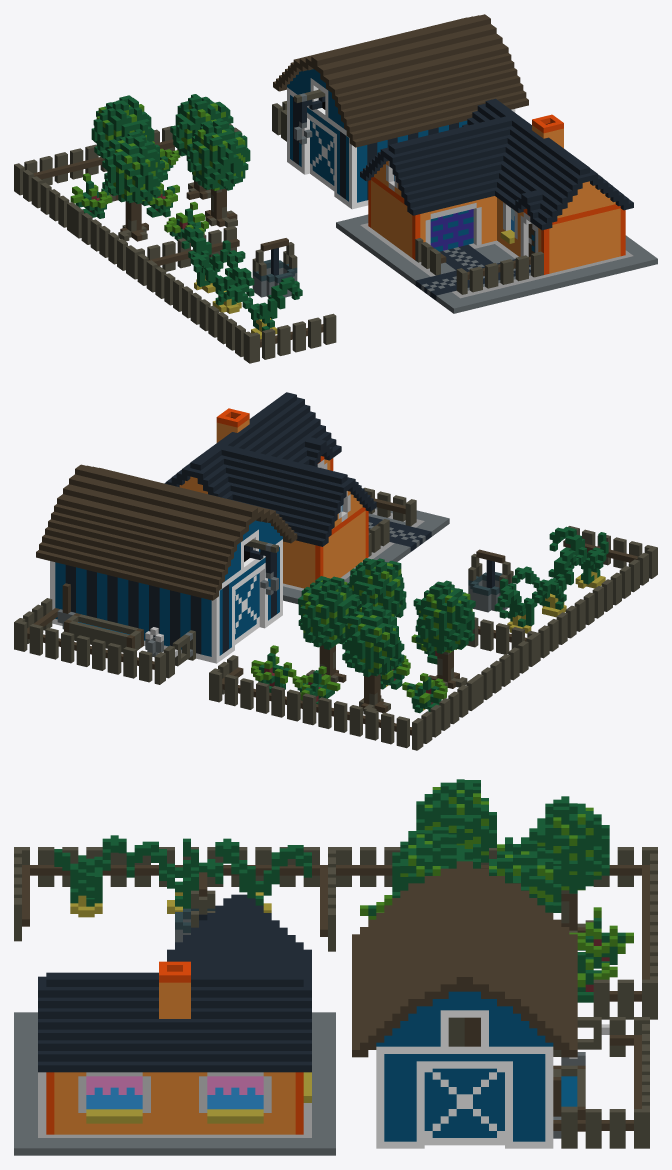
The model's file is farm_2_overtile.obj.
3 views of the same model, one above another, from view 1: azimuth 30°, elevation 25°; view 2: azimuth 150°, elevation 25°; view 3: azimuth 270°, elevation 25° (orthographic). The views are drawn at different scales.
Bounding box in the file's own units: 8 × 2.4 × 8.
1 material, 1 textured.
